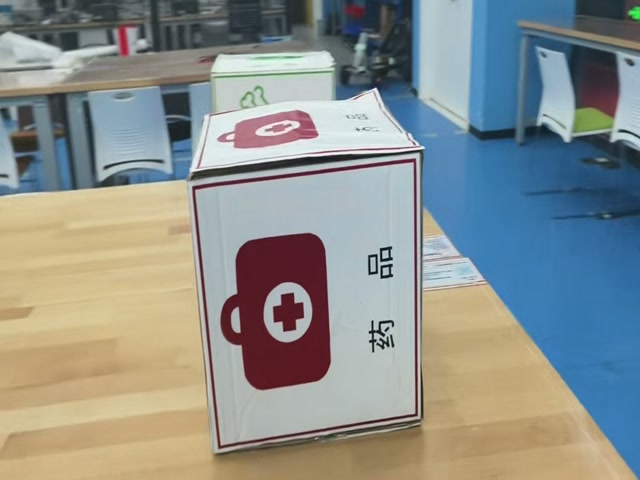Cube_food: (209, 52, 337, 77)
Cube_medicine: (193, 94, 422, 176)
